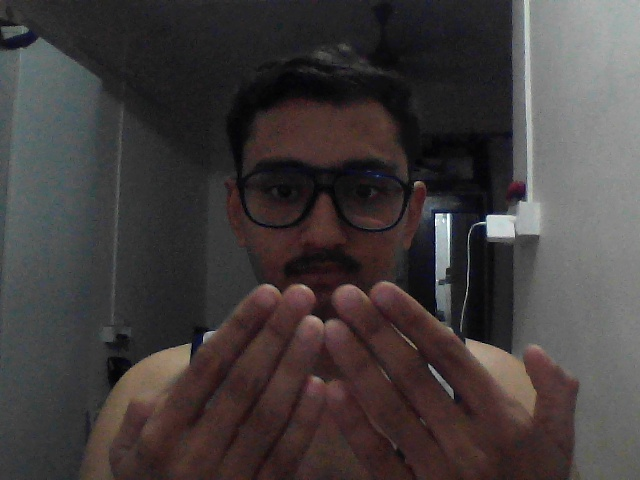Thank You: (95, 251, 592, 480)
